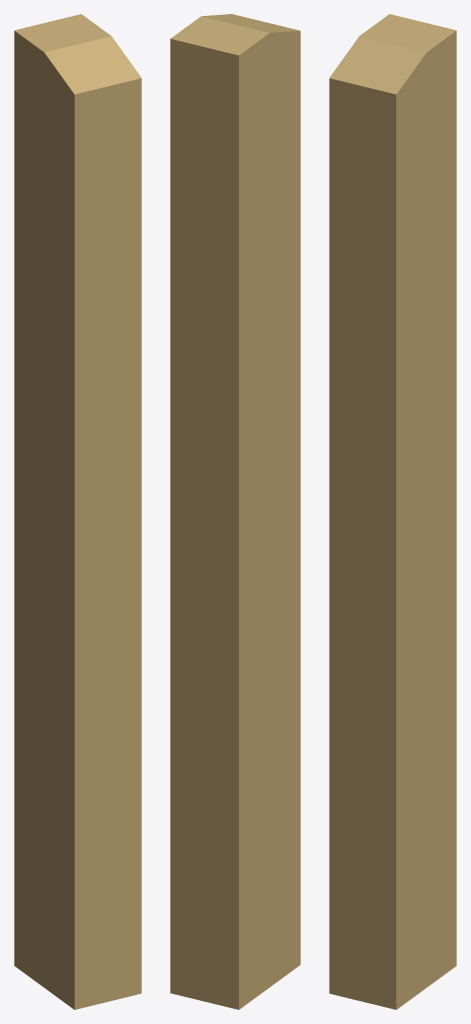
3 views of the same model, side by side, from view 1: azimuth 30°, elevation 25°; view 2: azimuth 150°, elevation 25°; view 3: azimuth 330°, elevation 25° (orthographic). The views are drawn at different scales.
Parts seen in each view (by area): view 1: L1-3-S9-325-WEB05; view 2: L1-3-S9-325-WEB05; view 3: L1-3-S9-325-WEB05.
Part boxes in pixels (x1,y1,x2,y2): L1-3-S9-325-WEB05: [14, 14, 141, 1009]; L1-3-S9-325-WEB05: [170, 14, 300, 1009]; L1-3-S9-325-WEB05: [329, 14, 456, 1009].
Bounding box in the file's own units: 0.045 × 0.598 × 0.07.
